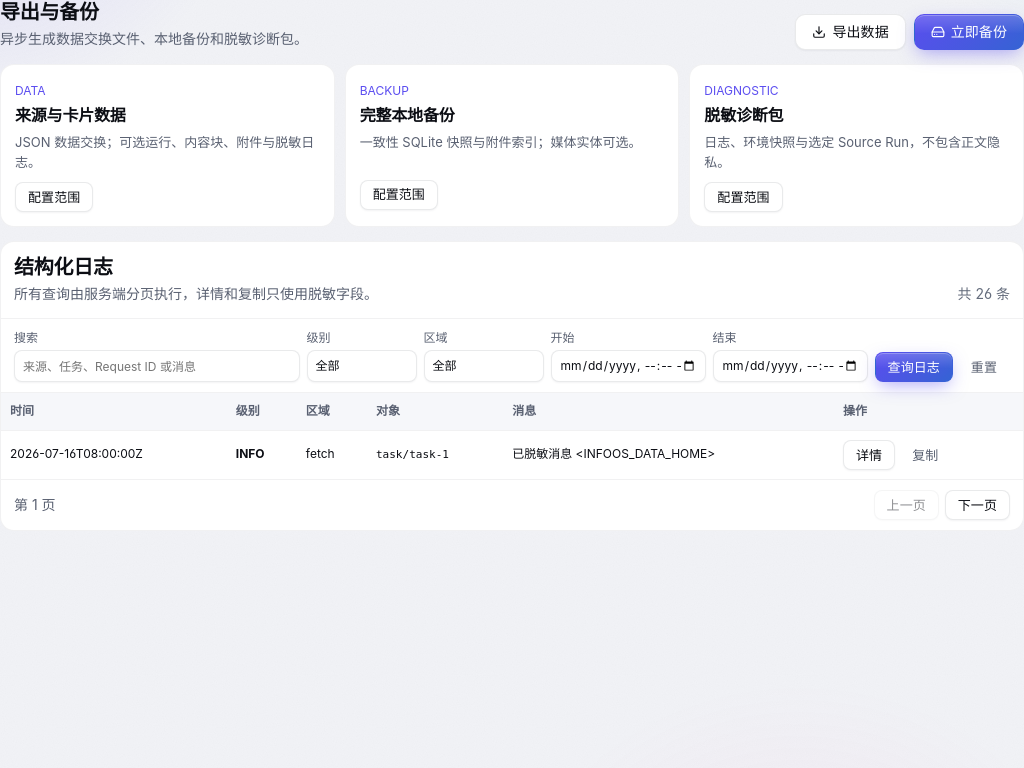
Test: ExportLogsModule › submits asynchronously, writes the task URL, polls to terminal, and shows only logical artifact location
The width and height of the screenshot is (1024, 768).
Click the button "立即备份".
click(969, 32)  # box x1=914 y1=14 x2=1023 y2=50
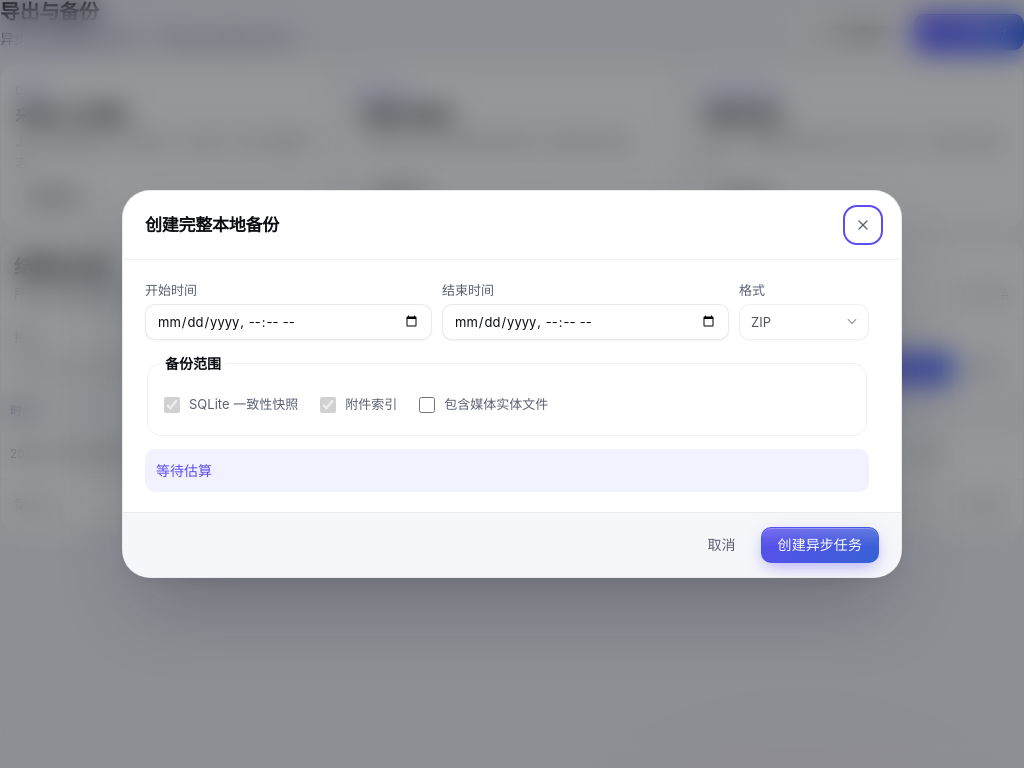
Click the button "创建异步任务".
click(820, 545)  # box x1=761 y1=527 x2=879 y2=563
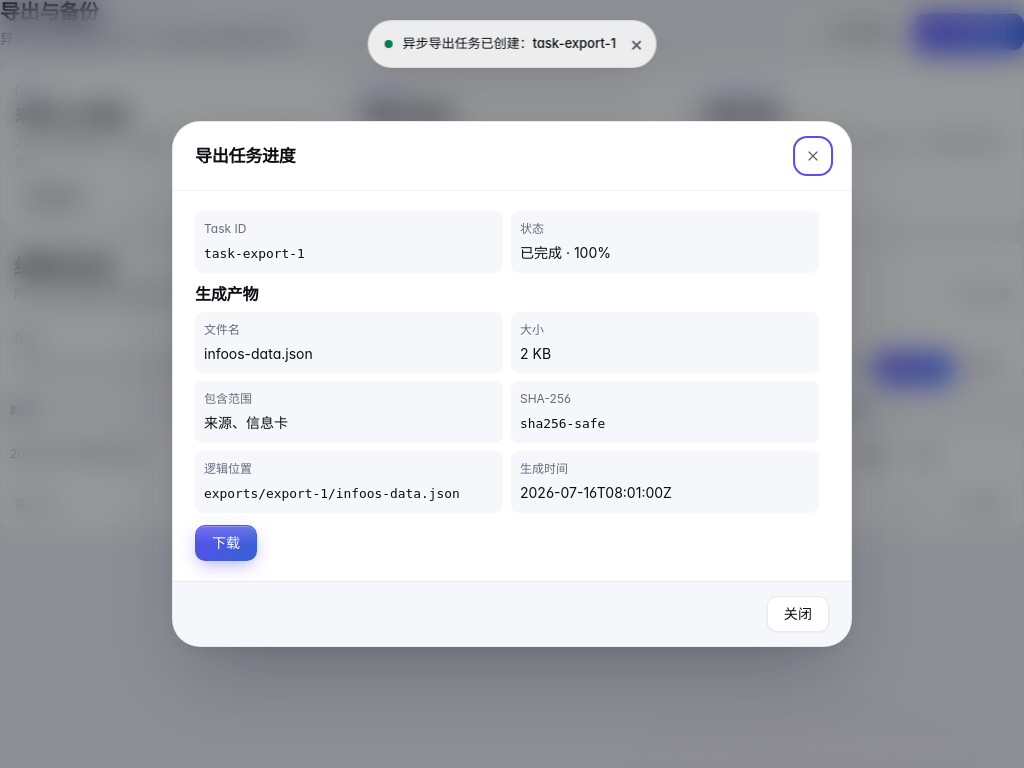
expect the text "task-export-1" is shown: met, box x1=204 y1=246 x2=305 y2=261
expect the text "exports/export-1/infoos-data.json" is shown: met, box x1=204 y1=486 x2=460 y2=501
expect the text "sha256-safe" is shown: met, box x1=520 y1=416 x2=605 y2=431
